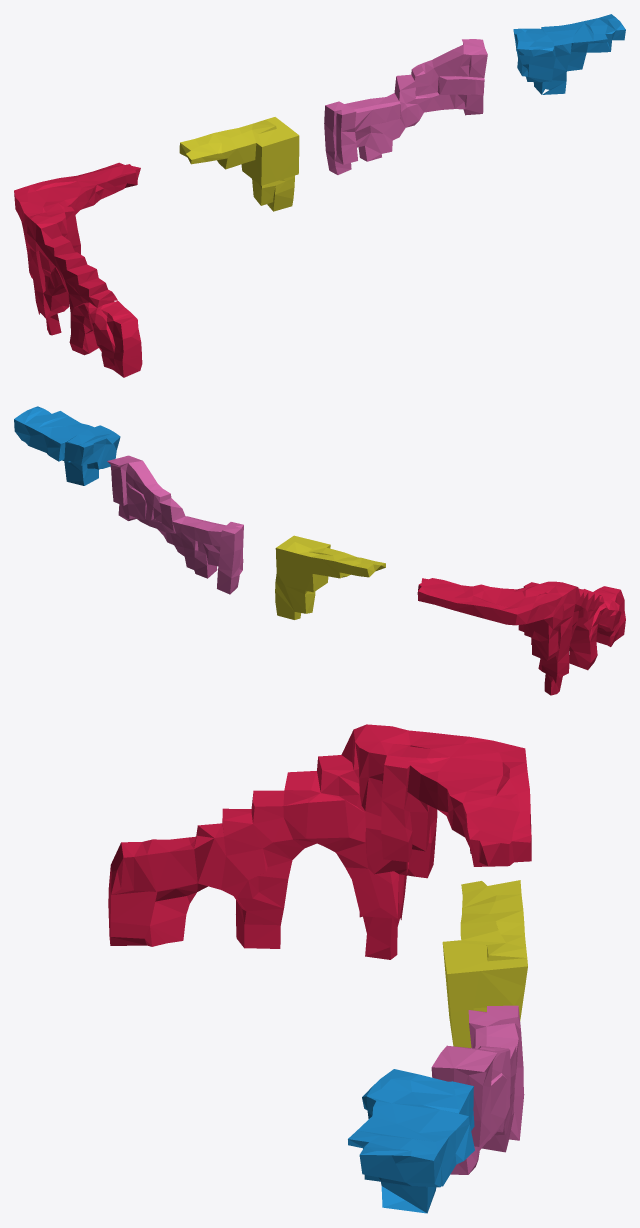
The model's file is platforms_test_all.fbx.
3 renders of one model, top to bottom at view 1: azimuth 30°, elevation 25°; view 2: azimuth 150°, elevation 25°; view 3: azimuth 270°, elevation 25°, orthographic. The views are drawn at different scales.
Visible parts, largest first — view 1: platform_1_stairs, platform_3_ramp, platform_2_backwardsf, platform_4_twiggy; view 2: platform_1_stairs, platform_3_ramp, platform_4_twiggy, platform_2_backwardsf; view 3: platform_1_stairs, platform_4_twiggy, platform_2_backwardsf, platform_3_ramp.
Boxes of the visible parts, box(x1,y1,x2,y2) form: platform_1_stairs: box(14, 162, 142, 377); platform_3_ramp: box(324, 39, 487, 174); platform_2_backwardsf: box(179, 117, 299, 211); platform_4_twiggy: box(513, 14, 625, 94); platform_1_stairs: box(417, 578, 625, 695); platform_3_ramp: box(107, 455, 243, 594); platform_4_twiggy: box(14, 406, 120, 485); platform_2_backwardsf: box(275, 535, 385, 619); platform_1_stairs: box(108, 724, 531, 959); platform_4_twiggy: box(348, 1069, 474, 1213); platform_2_backwardsf: box(442, 880, 527, 1047); platform_3_ramp: box(431, 1005, 524, 1174).
Bounding box in the file's own units: 199 × 54.92 × 66.79.
